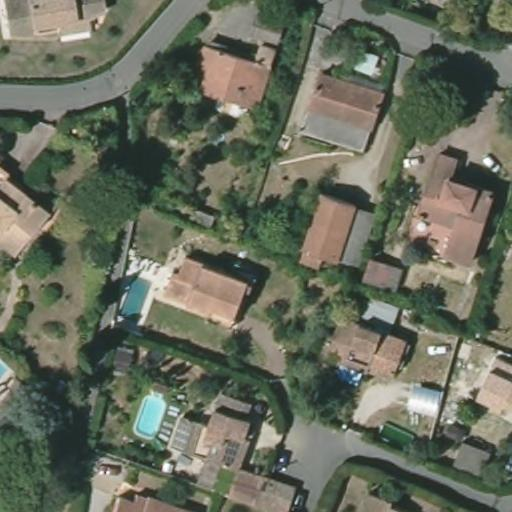pool: (117, 267, 149, 325), (132, 389, 167, 436), (0, 352, 8, 388)
